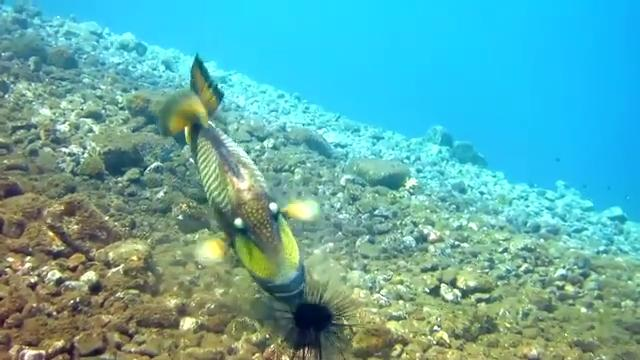urchin: (262, 280, 368, 360)
